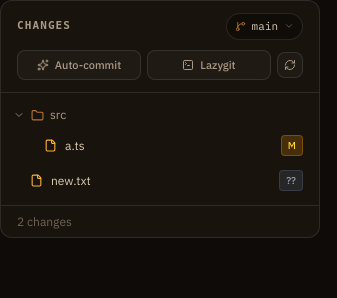
Test case: GitPanel › auto-commit failure surfaces the error
Click the button titled "AI auto-commit (stages all changes)" at (79, 65), box [17, 50, 141, 80]
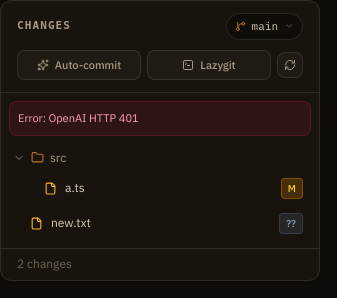
Expected: the text "Error: OpenAI HTTP 401" is shown, [9, 101, 311, 136]
